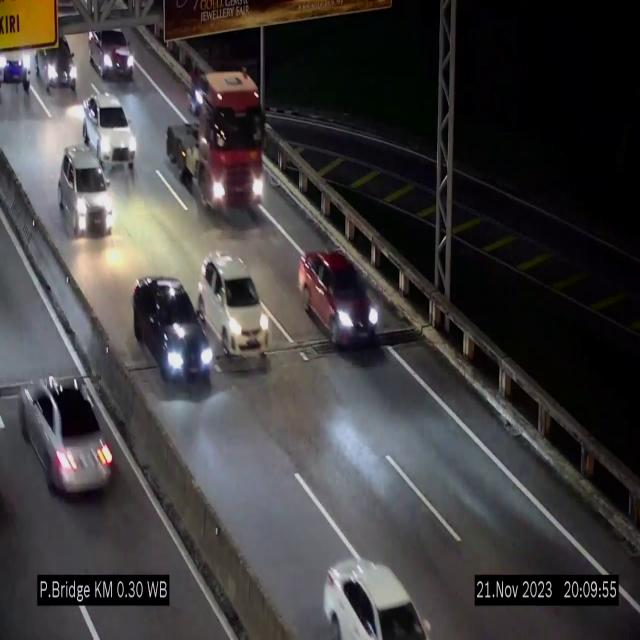Car: (19, 353, 123, 506), (315, 535, 433, 640), (134, 279, 214, 386), (199, 252, 268, 370), (300, 249, 379, 347), (58, 149, 116, 240), (83, 92, 137, 180), (26, 30, 88, 104), (82, 20, 146, 86), (0, 38, 35, 102)
Motorcycle: (189, 57, 205, 117)
Truck: (163, 64, 269, 216)
